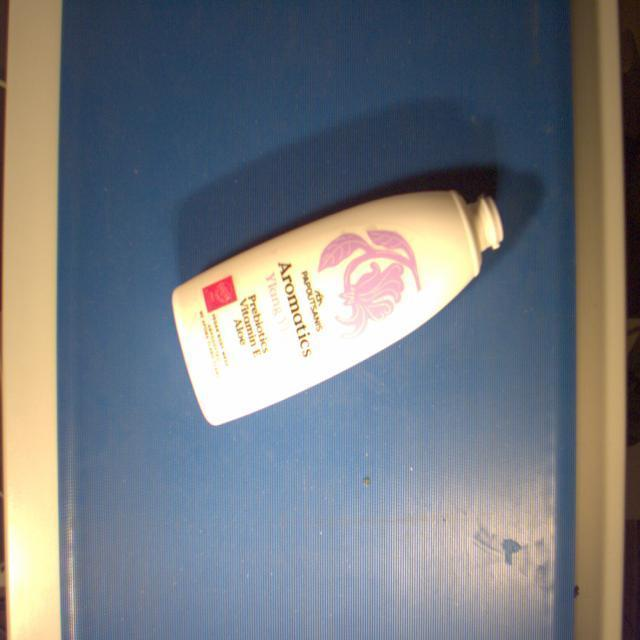HDPE Plastic: (166, 186, 511, 430)
